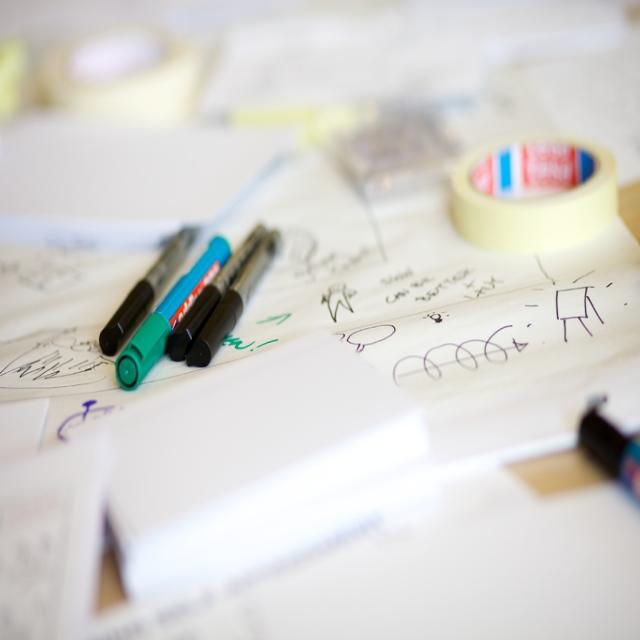pen: (100, 214, 290, 396)
